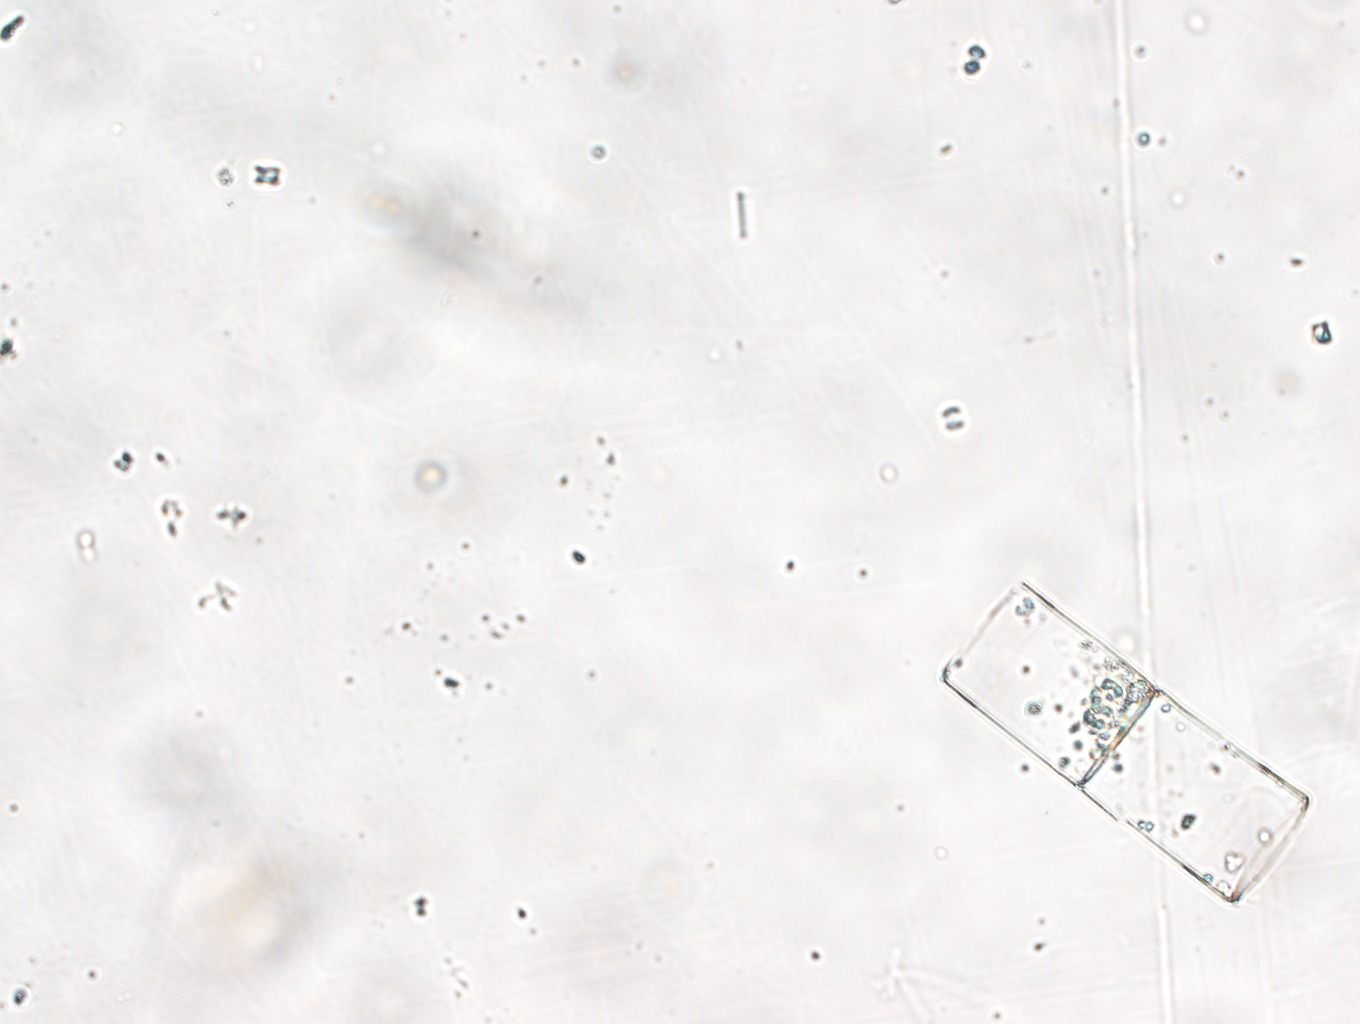guinardia flaccida: (940, 582, 1309, 905)
